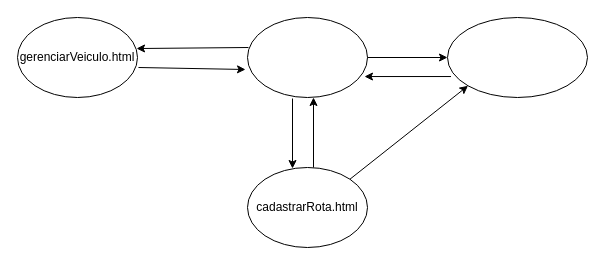
Image size: 605x265. Some labels were removed from this diagram. Here are the shapes that lost their labels. From the top down, the centre of each, then its label:
At (x=307, y=57): "realizarReserva.html".
At (x=517, y=57): "gerenciarReserva.html".
